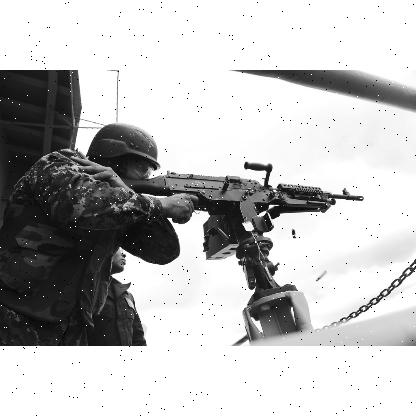gun: (120, 161, 362, 341)
